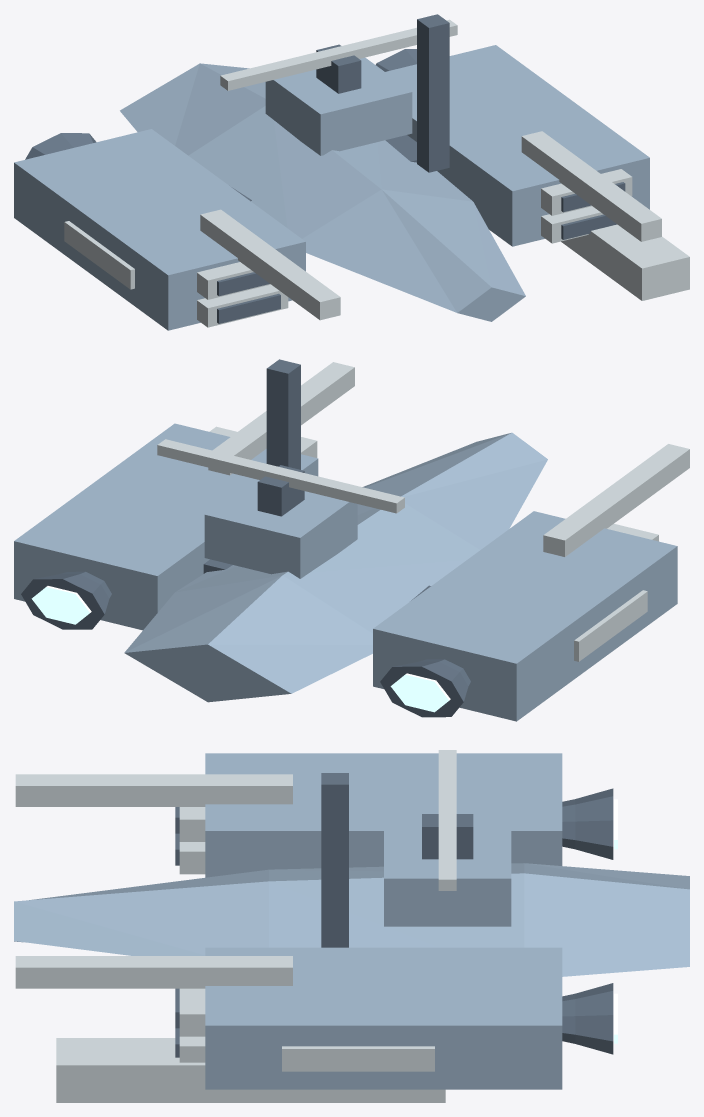
3 views of the same model, one above another, from view 1: azimuth 30°, elevation 25°; view 2: azimuth 150°, elevation 25°; view 3: azimuth 270°, elevation 25° (orthographic). The views are drawn at different scales.
Bounding box in the file's own units: 11.36 × 4.72 × 11.69.
